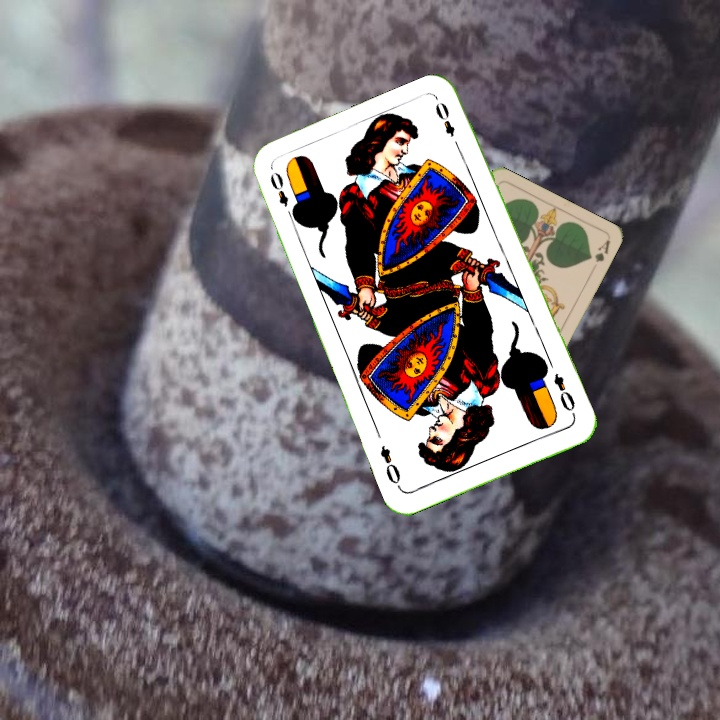EO: (265, 167, 298, 222), (549, 368, 578, 414)
